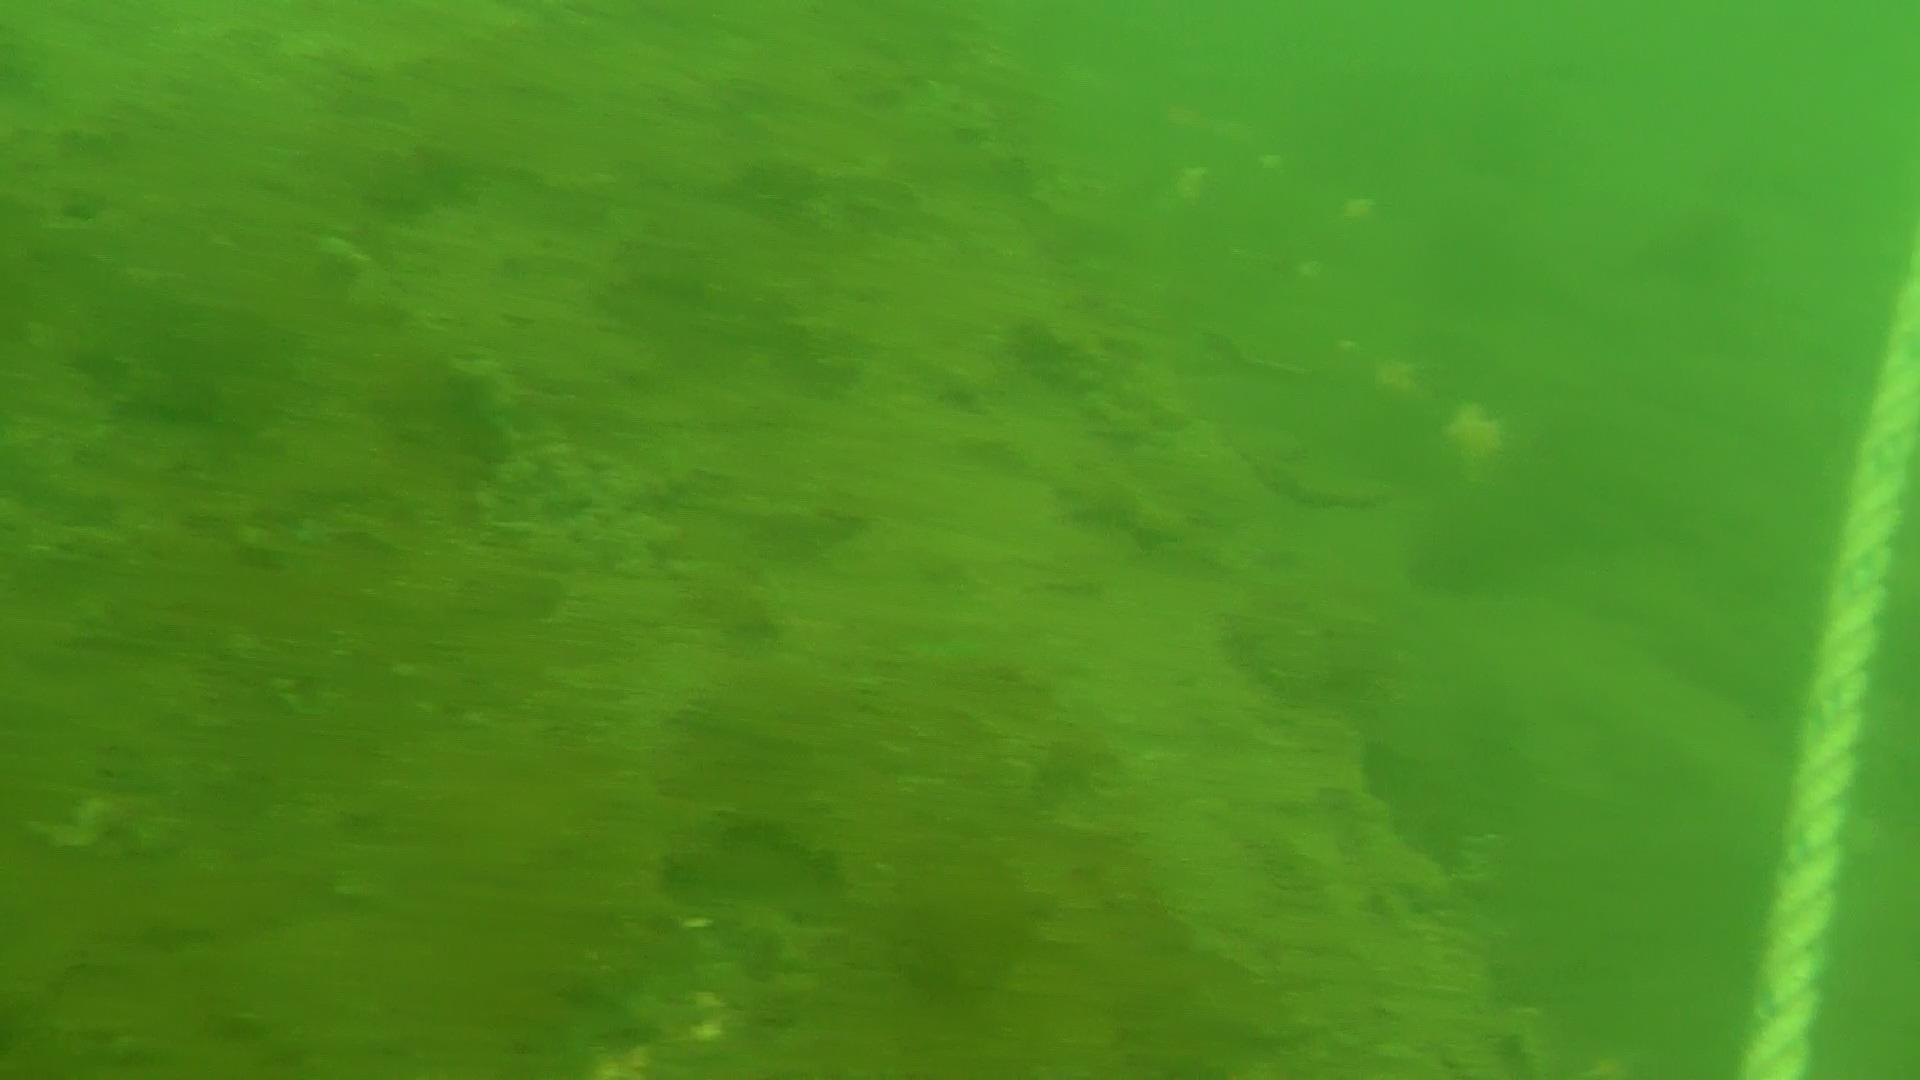rope: (1735, 211, 1920, 1080)
